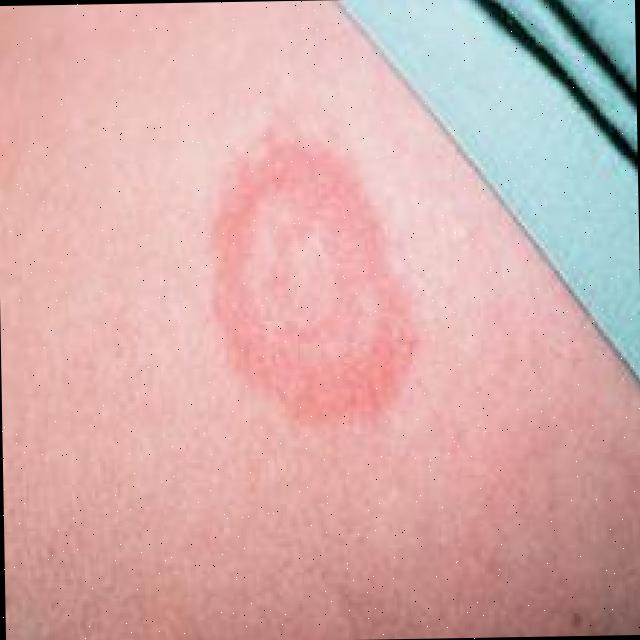kene: (165, 84, 438, 488)
